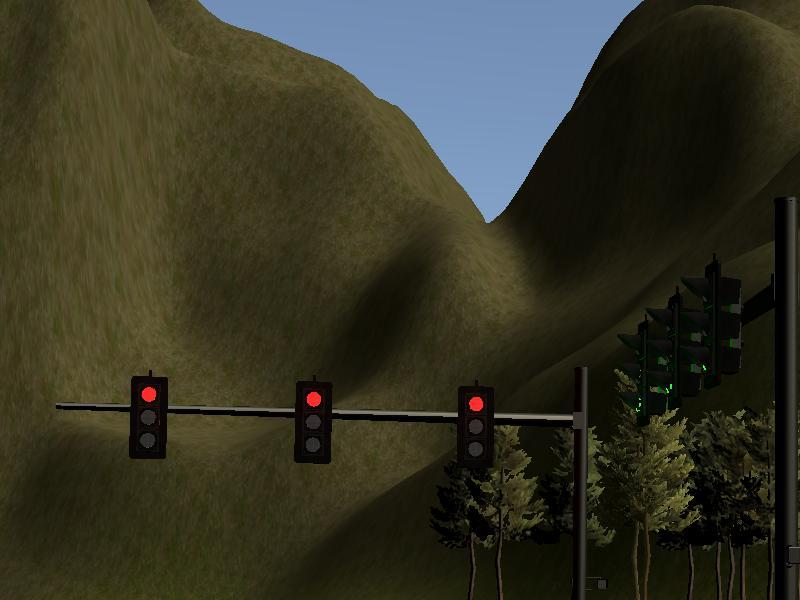Red: (296, 381, 330, 462), (459, 387, 494, 464), (133, 376, 166, 456)
